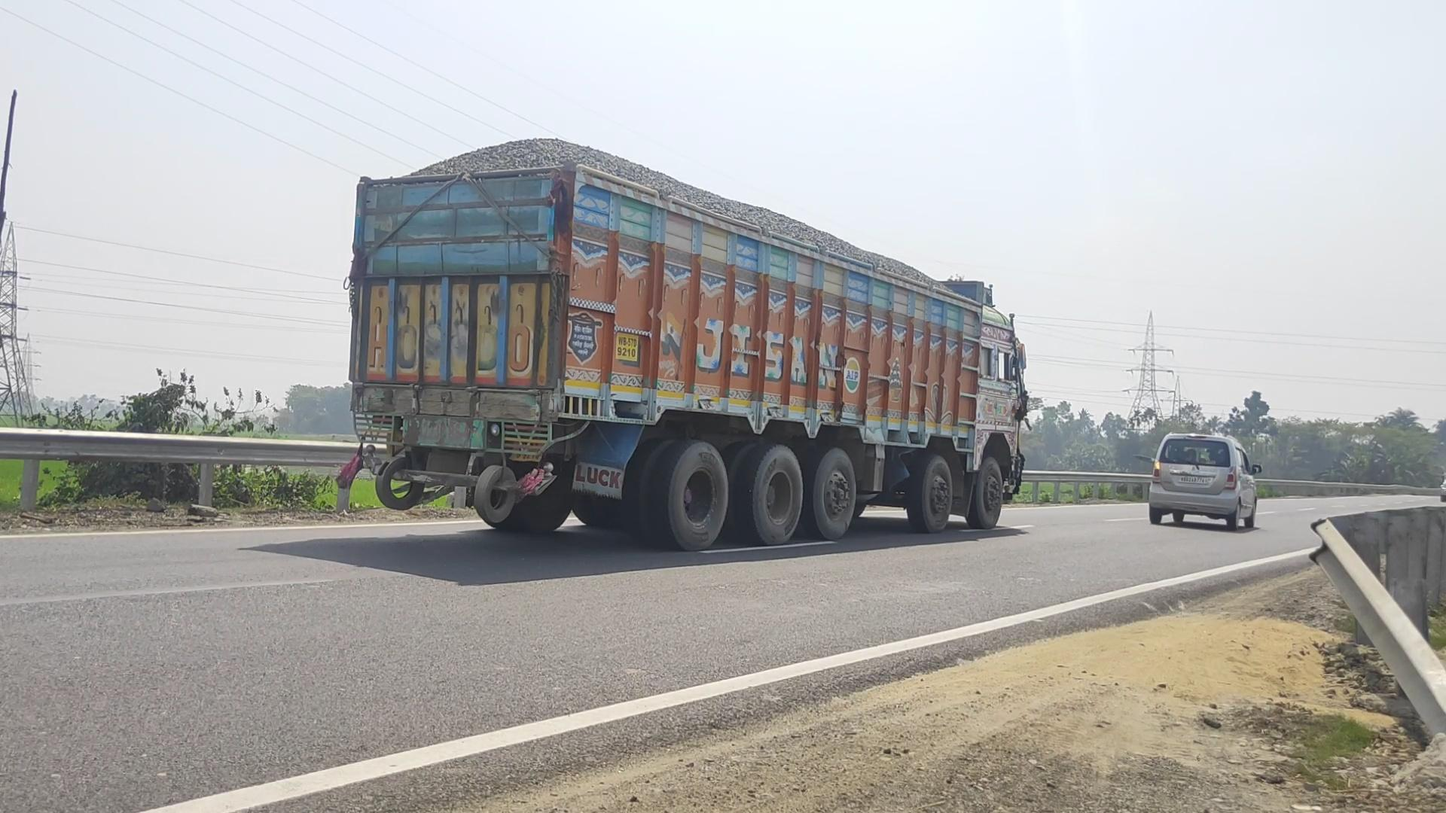car: (1149, 431, 1262, 531)
truck: (348, 137, 1030, 554)
